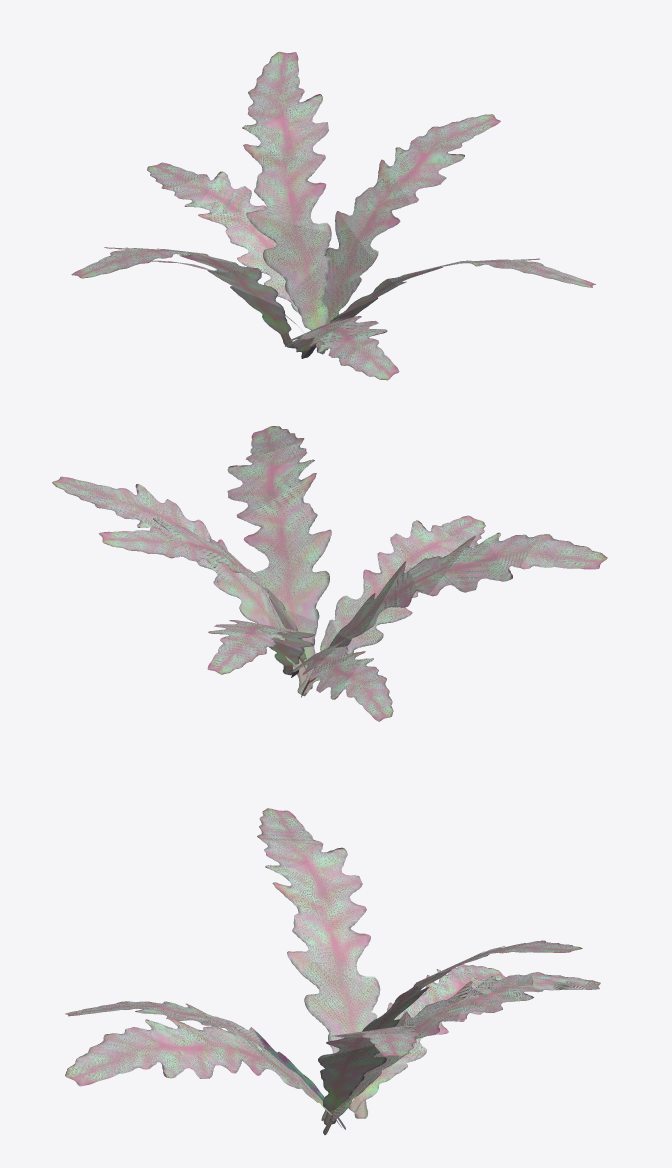
The model's file is Spindlewit D1.fbx.
3 renders of one model, top to bottom at view 1: azimuth 30°, elevation 25°; view 2: azimuth 150°, elevation 25°; view 3: azimuth 270°, elevation 25°, orthographic. The views are drawn at different scales.
Parts seen in each view (by area): view 1: Spindlewit D1; view 2: Spindlewit D1; view 3: Spindlewit D1.
Boxes of the visible parts, box(x1,y1,x2,y2) form: Spindlewit D1: box(71, 51, 595, 380); Spindlewit D1: box(52, 426, 607, 721); Spindlewit D1: box(65, 808, 600, 1134).
Size of the model in its own units: 124 by 47.49 by 110.
